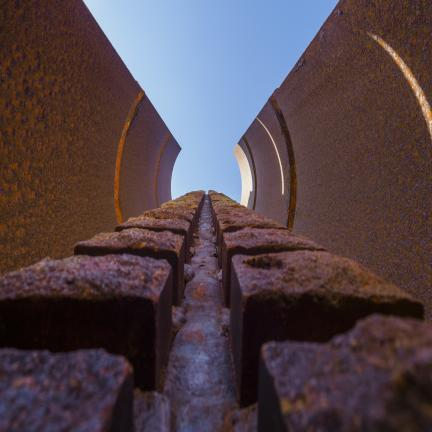karat: (233, 2, 432, 432), (0, 0, 137, 278), (0, 349, 131, 432), (233, 256, 417, 302), (1, 256, 169, 304), (78, 191, 205, 250), (210, 192, 323, 251)
